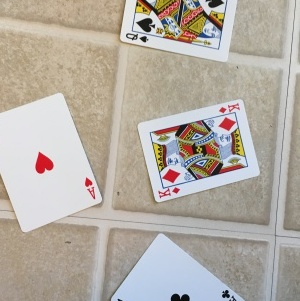card: (136, 98, 261, 203)
